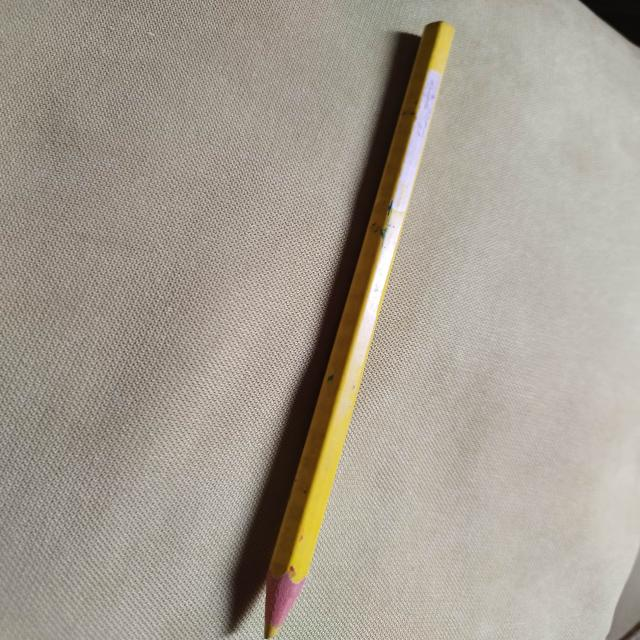pencil: (262, 20, 454, 638)
